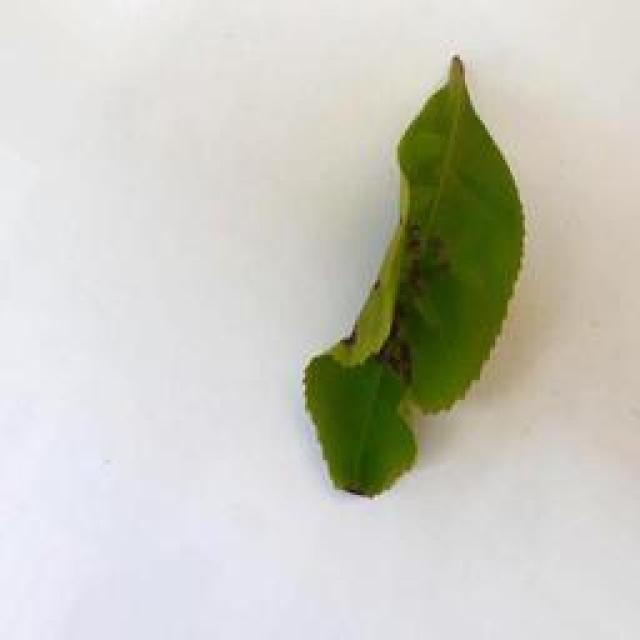Helopeltis: (295, 49, 528, 509)
